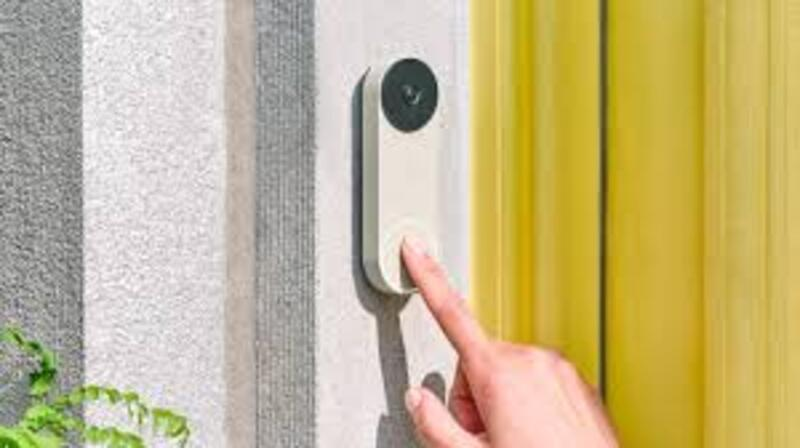doorbell: (359, 56, 443, 310)
